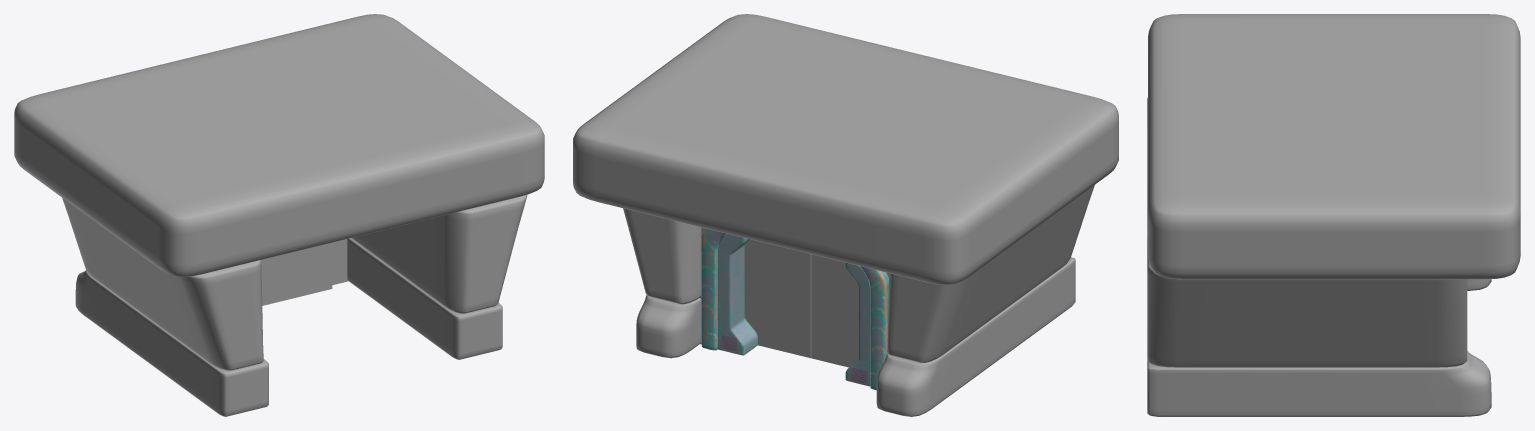
File: labFront.fbx
3 renders of one model, left to right at view 1: azimuth 30°, elevation 25°; view 2: azimuth 150°, elevation 25°; view 3: azimuth 270°, elevation 25°, orthographic. The views are drawn at different scales.
Parts seen in each view (by area): view 1: lab_access; view 2: lab_access; view 3: lab_access.
Boxes of the visible parts, box(x1,y1,x2,y2) form: lab_access: box(14, 14, 544, 416); lab_access: box(573, 14, 1118, 416); lab_access: box(1147, 14, 1520, 416).
Bounding box in the file's own units: 961 × 510 × 742.
